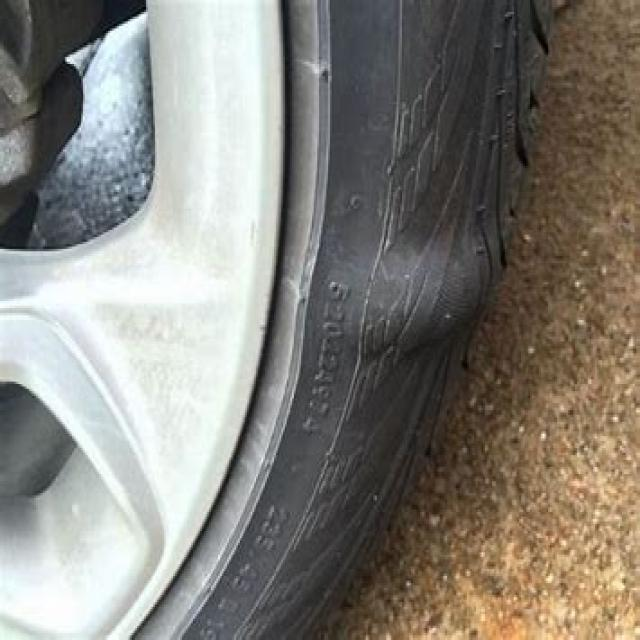Bulge: (313, 231, 479, 386)
